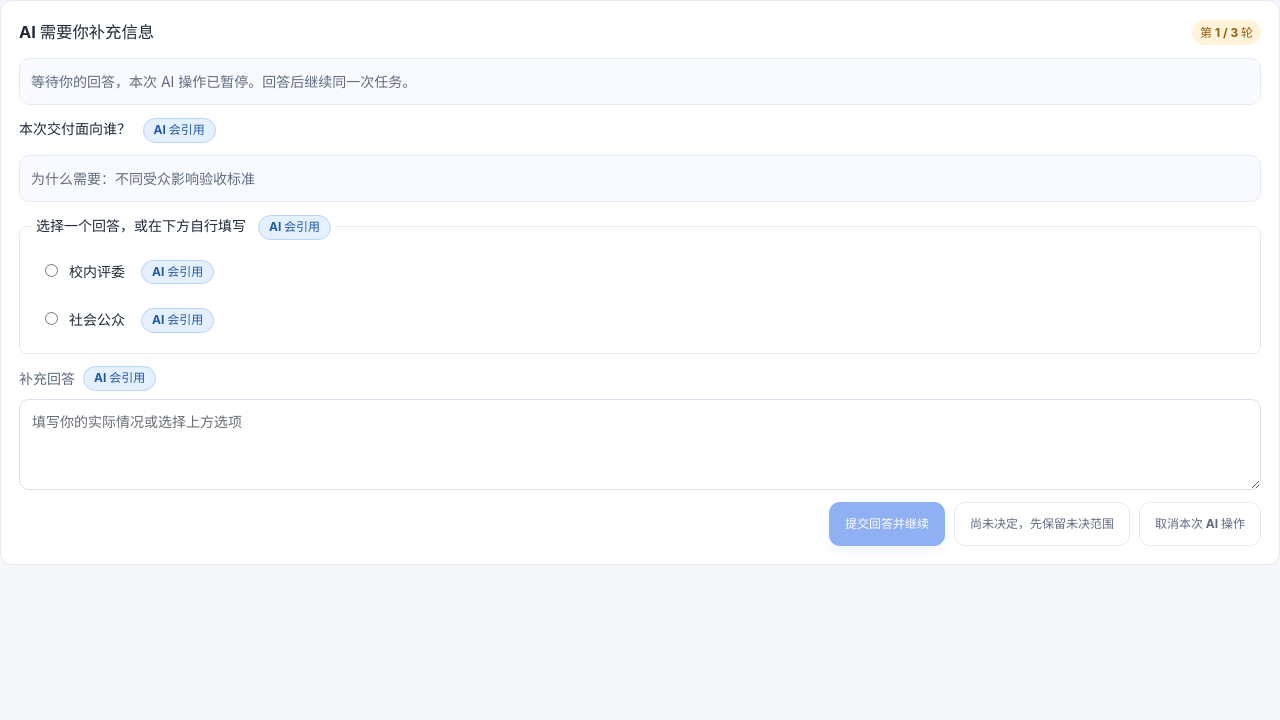
Test: AI clarification input › refetches stale questions and retains input for review after conflict
The image size is (1280, 720).
In the text box labelled "补充回答": [640, 445] box [19,399,1261,490], type "暂存的回答"
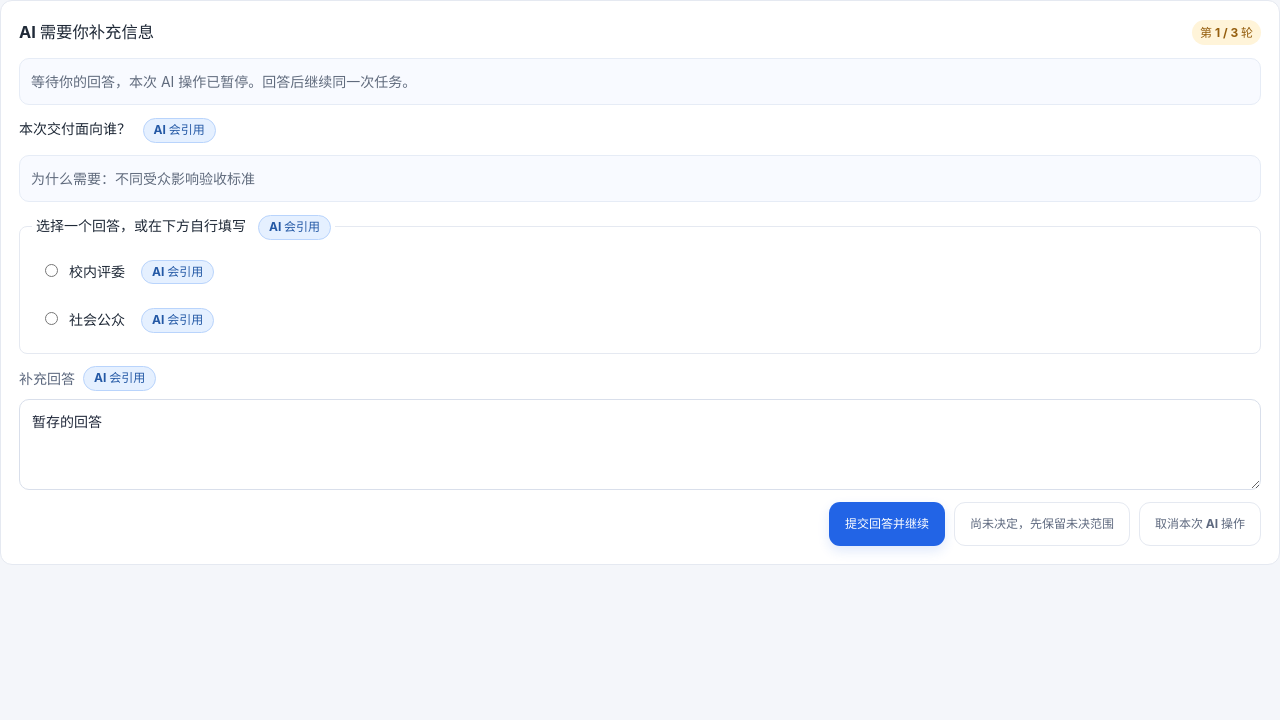
Click the button "提交回答并继续": [887, 524] box [829,502,945,546]
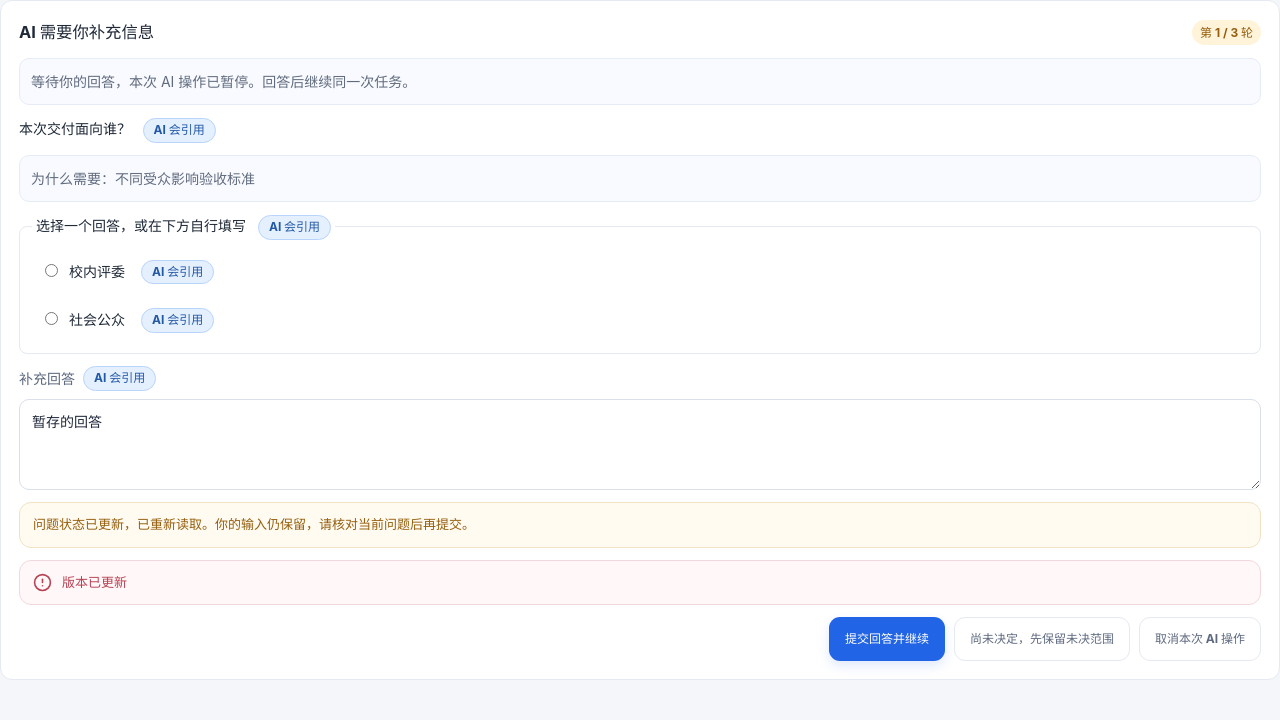
Check: the text "问题状态已更新，已重新读取。你的输入仍保留，请核对当前问题后再提交。" is shown, box [19,502,1261,548]
